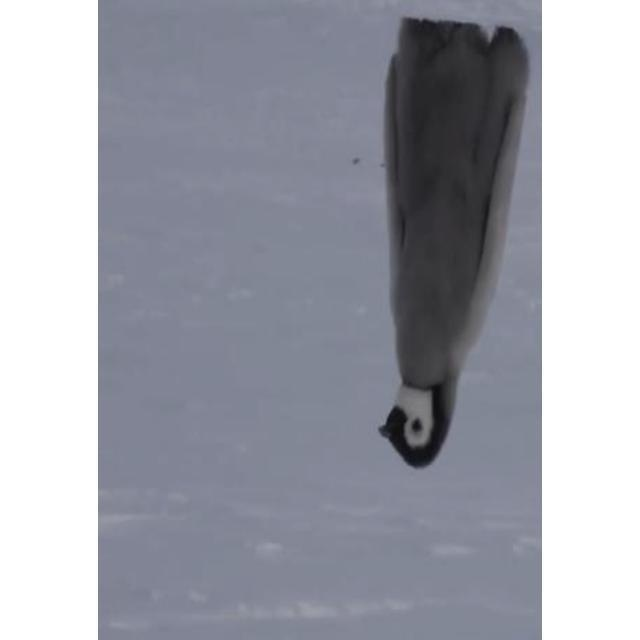penguin: (375, 18, 533, 470)
